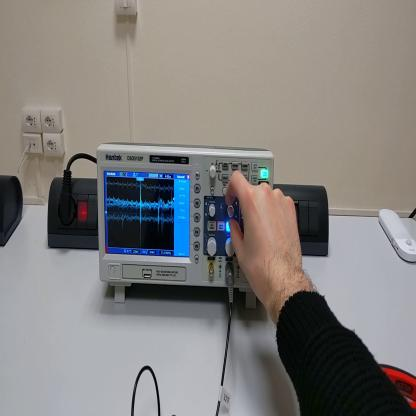hand: (226, 169, 305, 309)
oscilloscope: (97, 142, 274, 311)
pliers: (382, 362, 416, 410)
socket: (44, 175, 97, 251), (2, 173, 25, 248)
